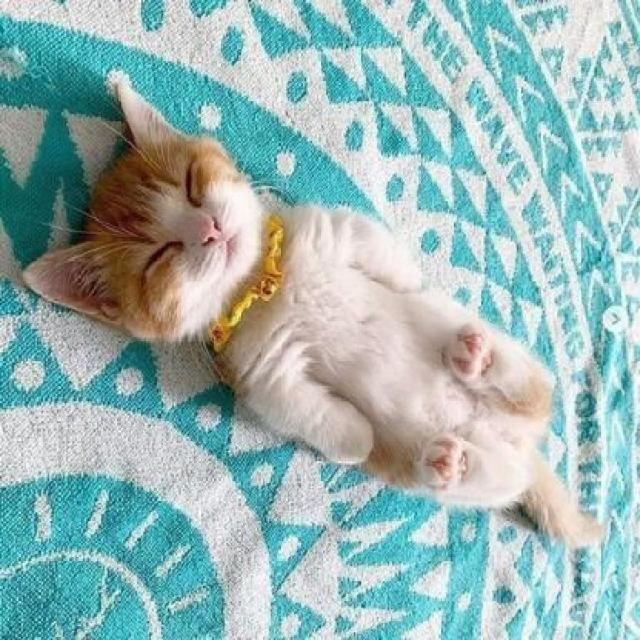cat: (14, 68, 608, 544)
